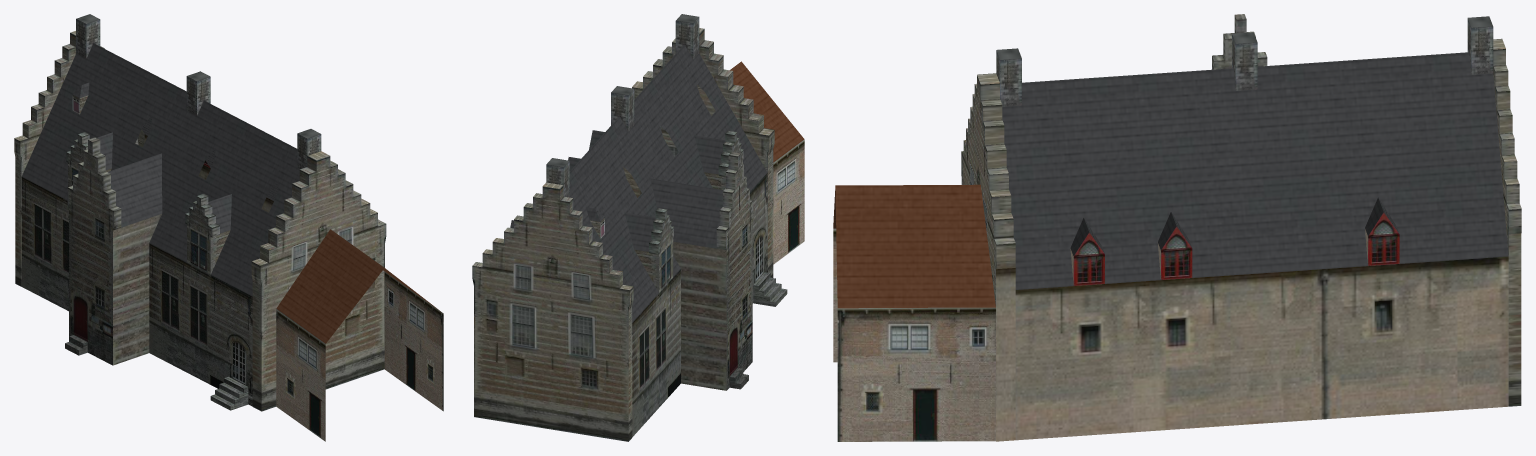
File: house_obj4.obj
3 renders of one model, left to right at view 1: azimuth 30°, elevation 25°; view 2: azimuth 150°, elevation 25°; view 3: azimuth 270°, elevation 25°, orthographic. The views are drawn at different scales.
Parts seen in each view (by area): view 1: polySurface4; view 2: polySurface4; view 3: polySurface4.
Boxes of the visible parts, x1,y1,x2,y2 form: polySurface4: (14, 14, 443, 441); polySurface4: (472, 14, 804, 441); polySurface4: (833, 14, 1521, 441).
Bounding box in the file's own units: 1326 × 1434 × 2632.
1 material, 1 textured.
